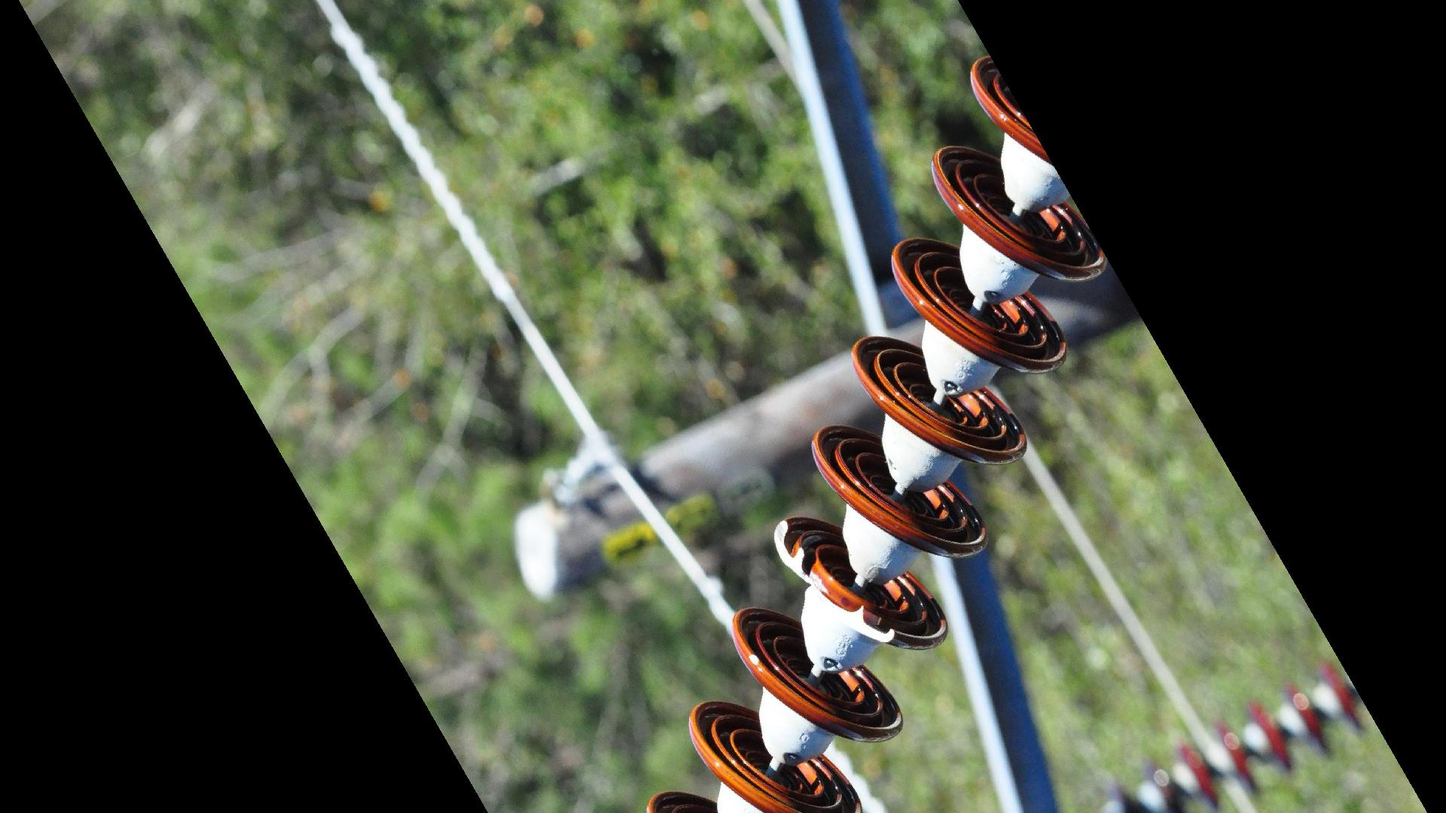insulator: (634, 47, 1119, 813), (1106, 656, 1372, 813)
insulator_breakage: (767, 513, 906, 650)
